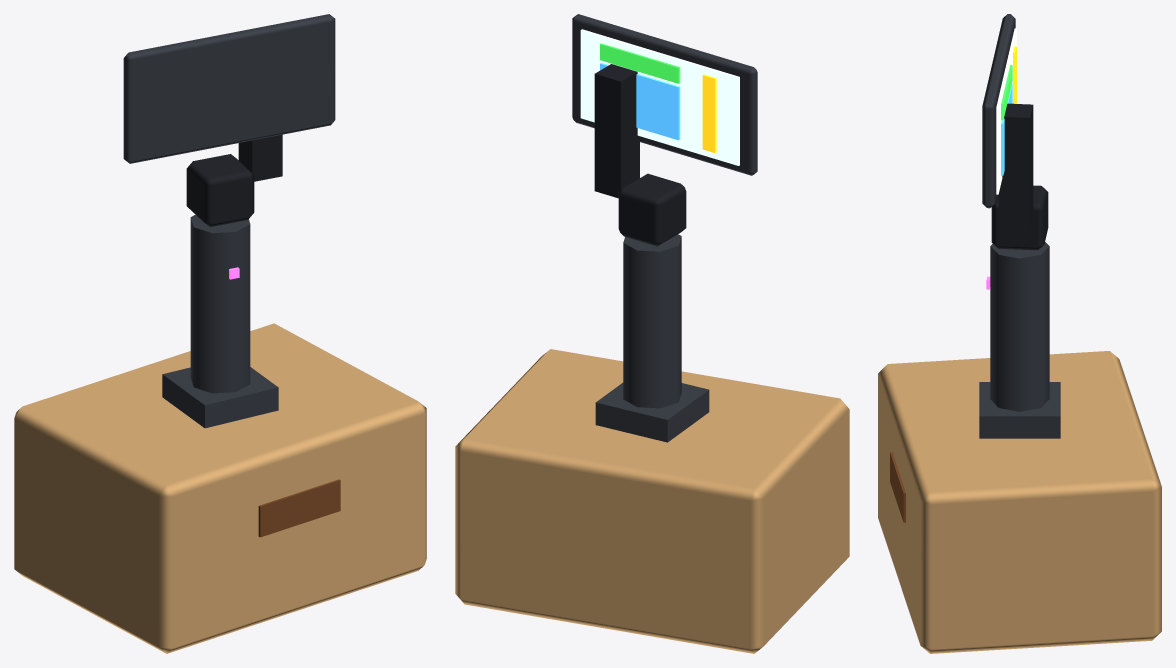
The model's file is station_buffer_ausstattung_1_0.glb.
The picture shows the model from 3 angles, left to right: view 1: azimuth 30°, elevation 25°; view 2: azimuth 150°, elevation 25°; view 3: azimuth 270°, elevation 25°; orthographic projection. The views are drawn at different scales.
Visible parts, largest first — view 1: station_buffer_ausstattung_1_0; view 2: station_buffer_ausstattung_1_0; view 3: station_buffer_ausstattung_1_0.
Boxes of the visible parts, <box> form: station_buffer_ausstattung_1_0: <box>14,14,426,653</box>; station_buffer_ausstattung_1_0: <box>455,14,849,653</box>; station_buffer_ausstattung_1_0: <box>878,14,1161,653</box>.
Size of the model in its own units: 0.4345 by 0.7115 by 0.3494.
